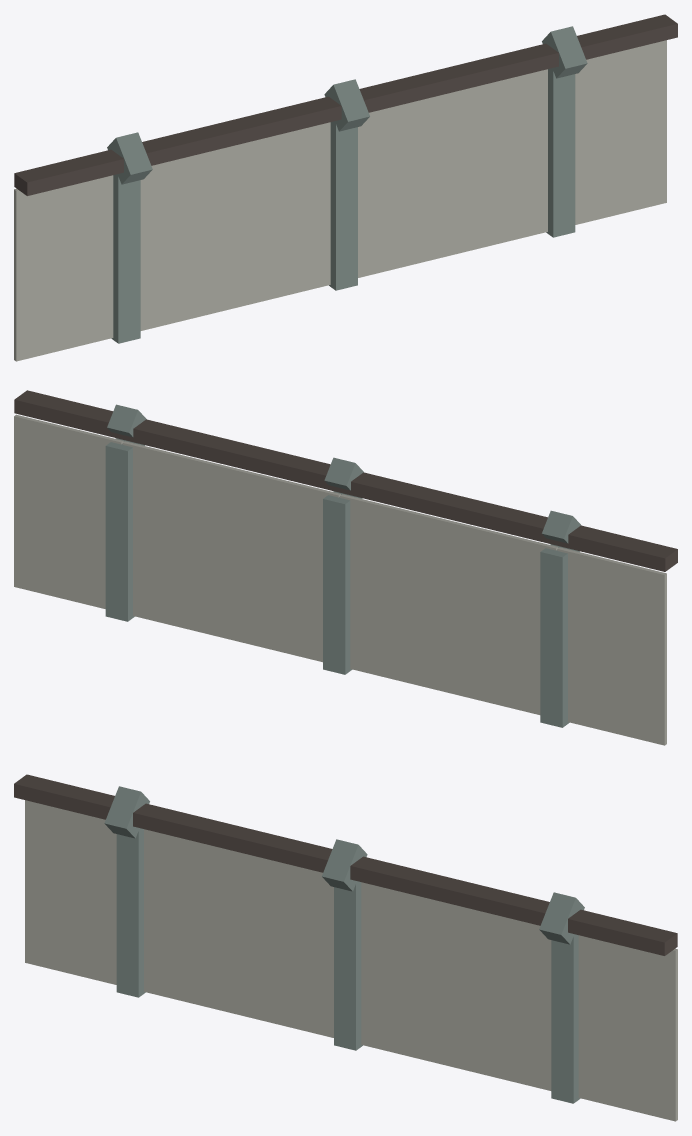
The model's file is SM_VallaBetera_Malla_e0_Sana_LOD1.fbx.
3 views of the same model, one above another, from view 1: azimuth 30°, elevation 25°; view 2: azimuth 150°, elevation 25°; view 3: azimuth 330°, elevation 25° (orthographic).
Visible parts, largest first — view 1: SM_valla_estados_v0_LOD1; view 2: SM_valla_estados_v0_LOD1; view 3: SM_valla_estados_v0_LOD1.
Part boxes in pixels (left/top/right/bottom): SM_valla_estados_v0_LOD1: left=14, top=14, right=677, bottom=361; SM_valla_estados_v0_LOD1: left=14, top=390, right=677, bottom=745; SM_valla_estados_v0_LOD1: left=14, top=774, right=677, bottom=1121.
Bounding box in the file's own units: 9.98 × 2.99 × 0.6647.
